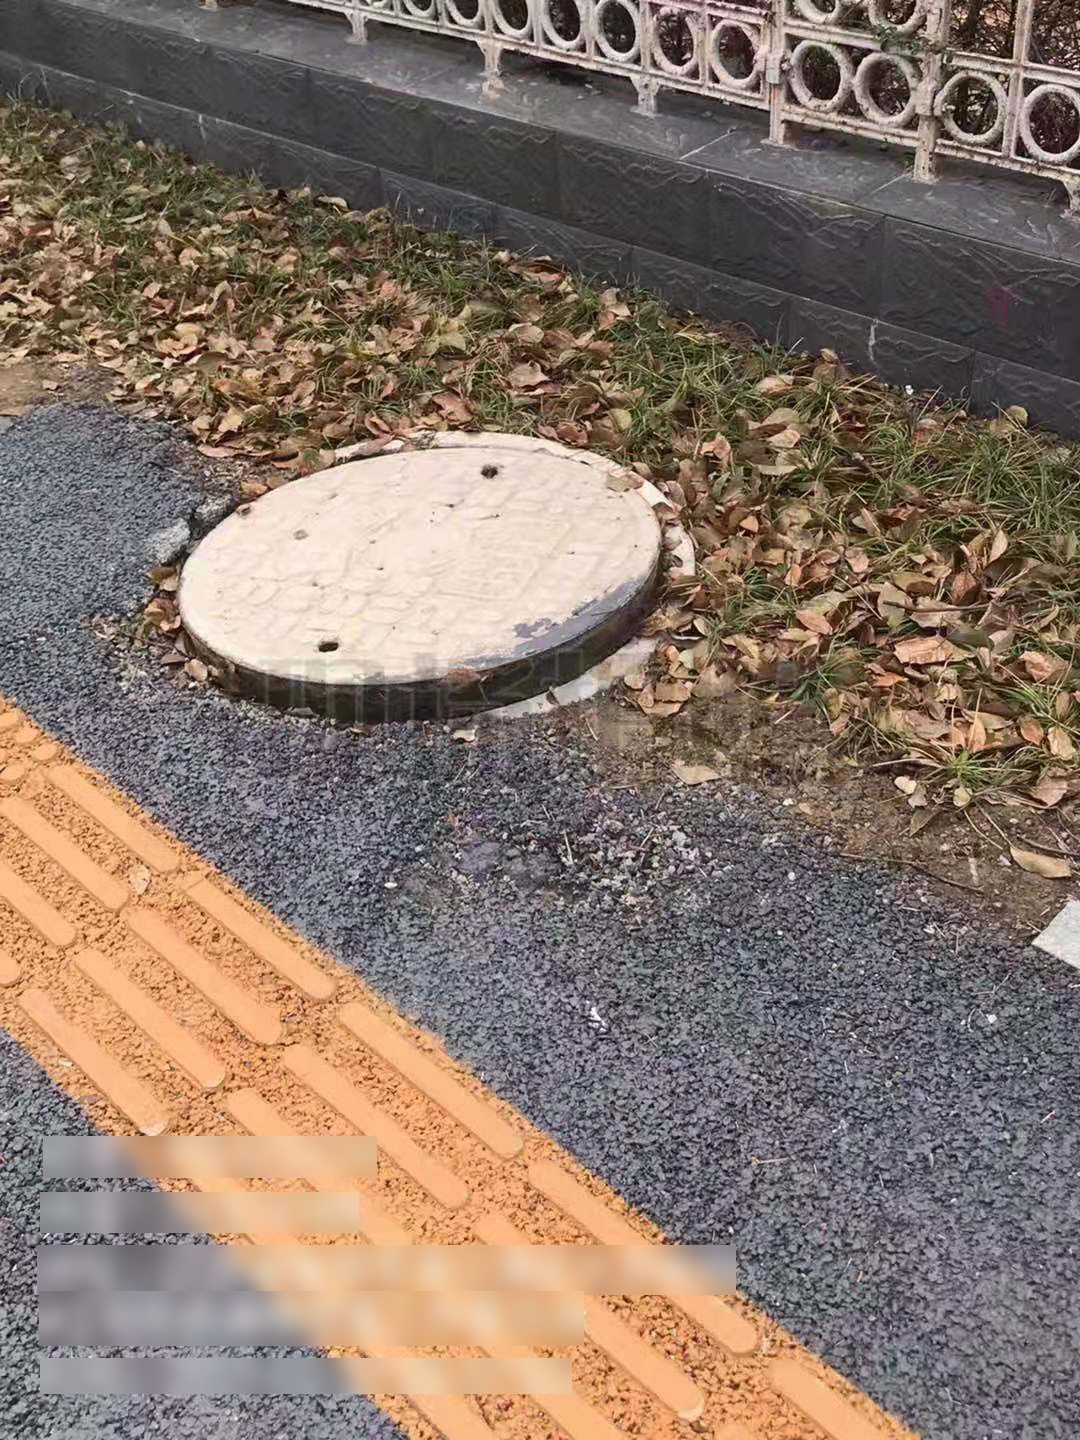uncovered: (159, 424, 697, 713)
